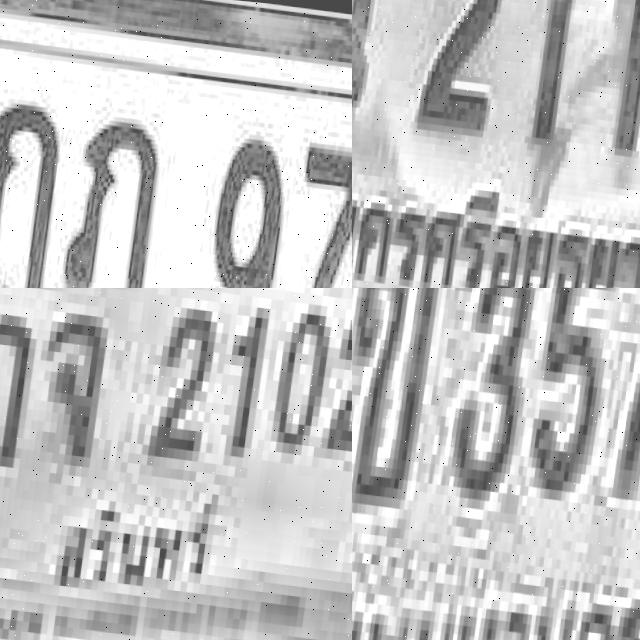license-plate: (0, 288, 352, 640), (352, 288, 640, 640), (0, 1, 352, 288), (352, 0, 640, 288)
